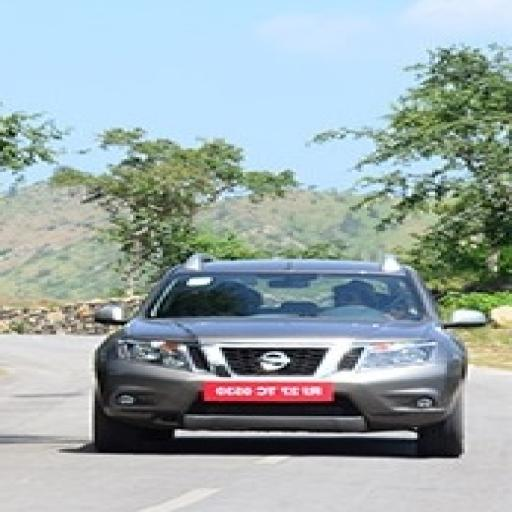License: (205, 375, 334, 405)
